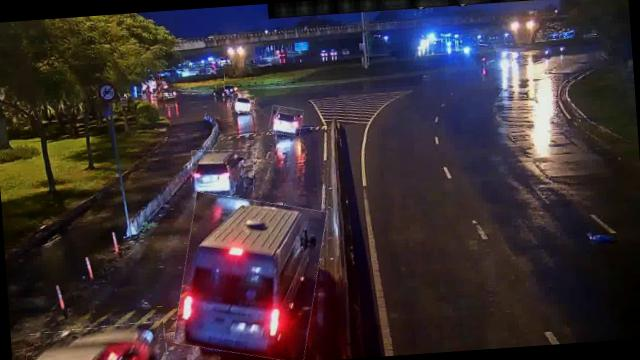Bus: (170, 189, 328, 360), (23, 322, 166, 360), (158, 66, 225, 96), (230, 92, 255, 114)
Car: (190, 148, 256, 198), (268, 104, 304, 136), (231, 93, 254, 112)
